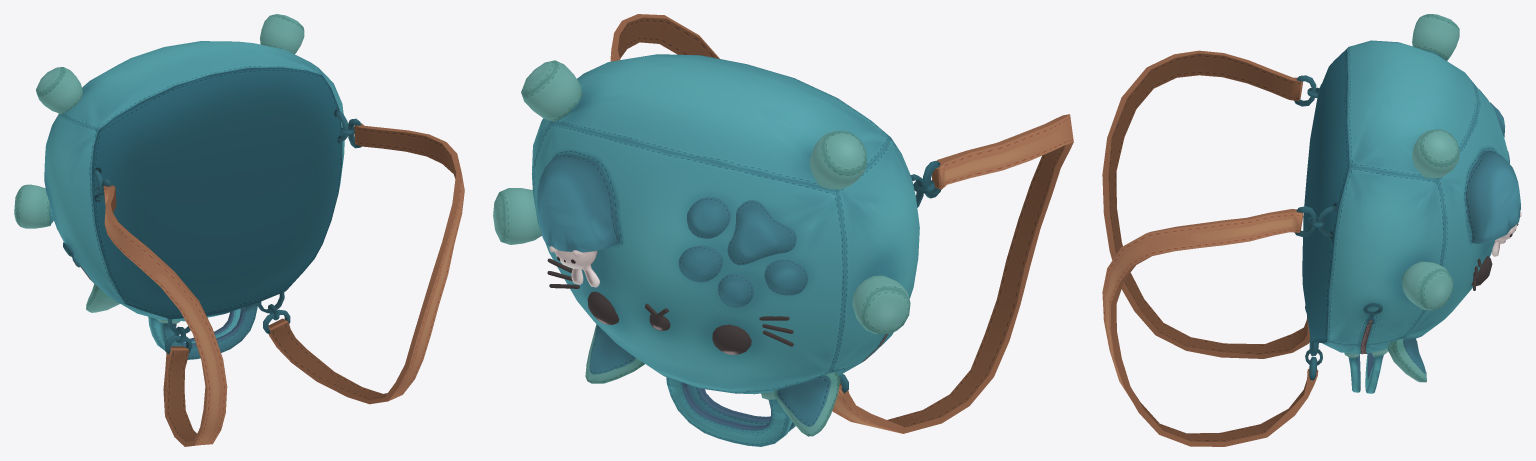
File: Paw_Backpack_-_6_colours_-.glb
3 views of the same model, side by side, from view 1: azimuth 30°, elevation 25°; view 2: azimuth 150°, elevation 25°; view 3: azimuth 270°, elevation 25° (orthographic). The views are drawn at different scales.
Visible parts, largest first — view 1: Backpack_0; view 2: Backpack_0; view 3: Backpack_0.
Boxes of the visible parts, box(x1,y1,x2,y2) form: Backpack_0: box(14, 14, 464, 446); Backpack_0: box(493, 14, 1073, 446); Backpack_0: box(1102, 14, 1521, 446).
Bounding box in the file's own units: 0.1848 × 0.1614 × 0.1858.
Materials: 1 (1 with a texture image).
